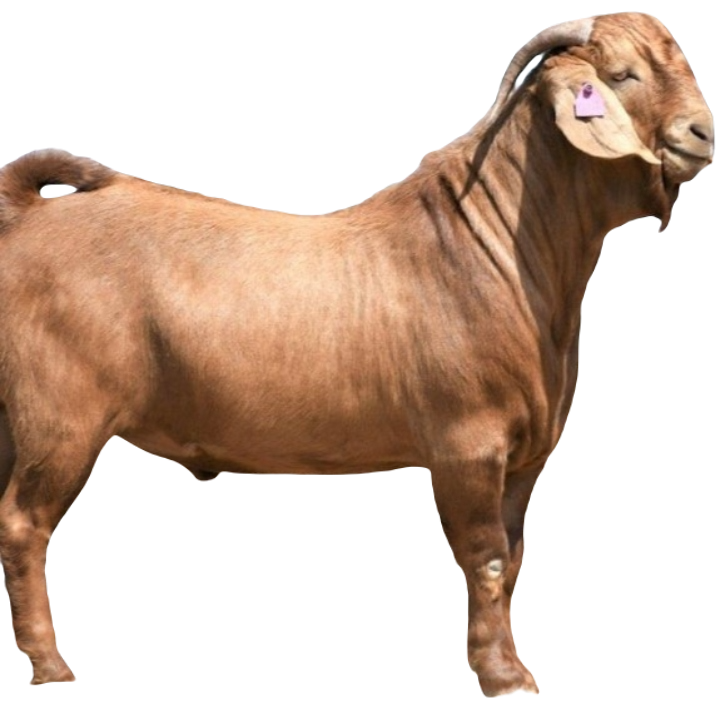Goat: (0, 11, 716, 697)
